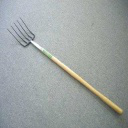Fork: (9, 14, 128, 117)
